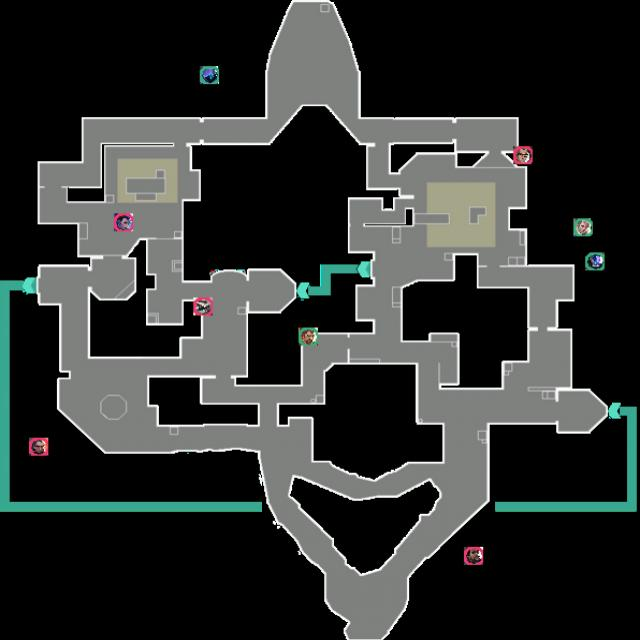atk_chamber: (513, 146, 533, 164)
atk_cypher: (193, 298, 213, 316)
atk_harbor: (464, 547, 483, 565)
atk_reyna: (29, 438, 48, 456)
atk_yoru: (114, 214, 133, 232)
def_breach: (298, 328, 318, 346)
def_kayo: (585, 252, 605, 270)
def_omen: (200, 66, 219, 84)
def_sova: (573, 218, 593, 236)
